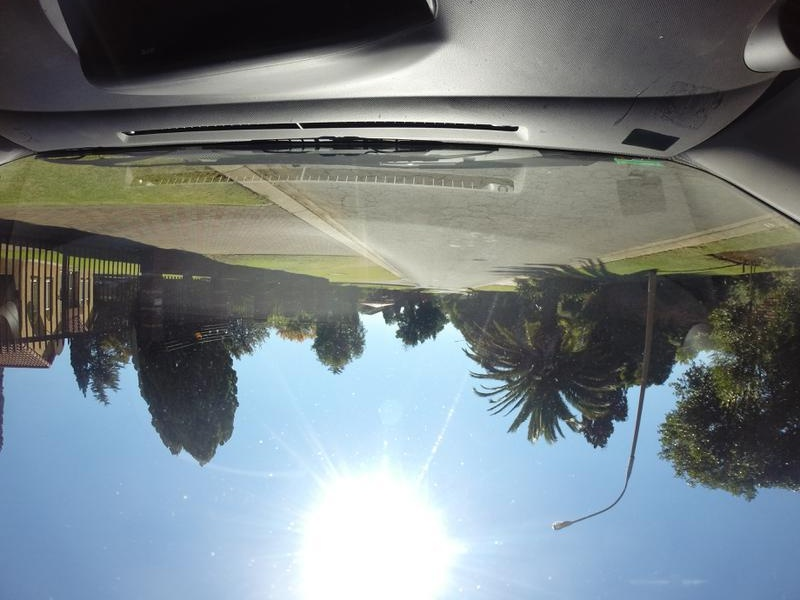pothole: (626, 168, 647, 185)
